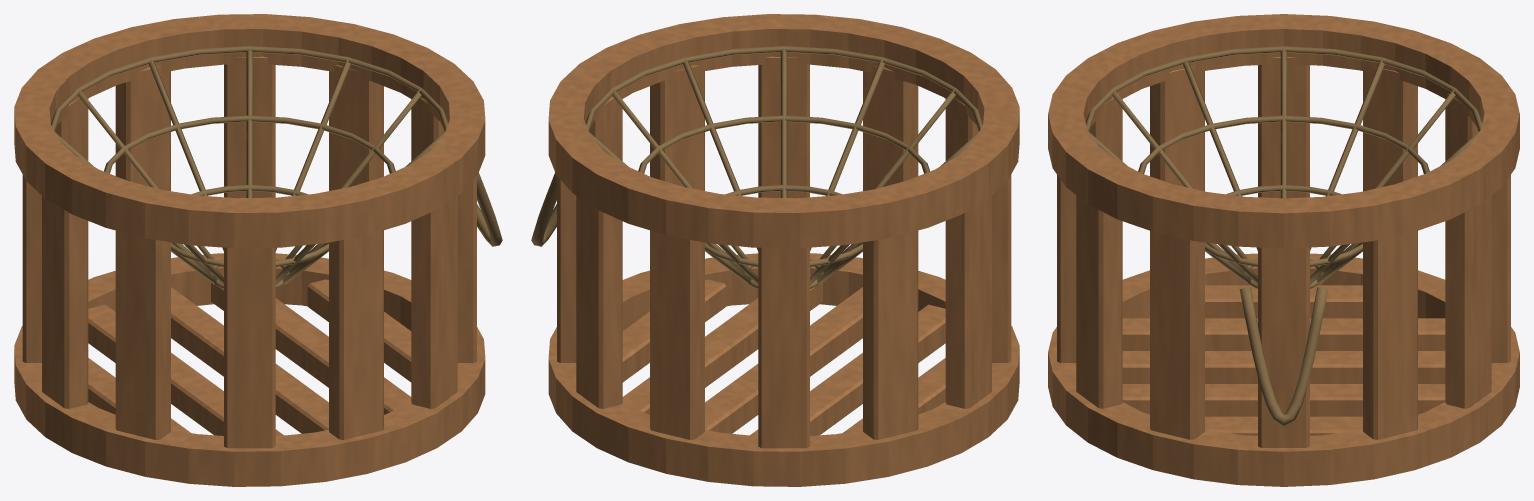
Rendered from crab_trap.fbx.
3 renders of one model, left to right at view 1: azimuth 30°, elevation 25°; view 2: azimuth 150°, elevation 25°; view 3: azimuth 270°, elevation 25°, orthographic.
Visible parts, largest first — view 1: crab_trap.001; view 2: crab_trap.001; view 3: crab_trap.001.
Boxes of the visible parts, bbox=[...] form: crab_trap.001: bbox=[14, 14, 502, 486]; crab_trap.001: bbox=[531, 14, 1019, 486]; crab_trap.001: bbox=[1048, 14, 1519, 486].
Bounding box in the file's own units: 0.6085 × 0.35 × 0.547.
Materials: 1 (1 with a texture image).
